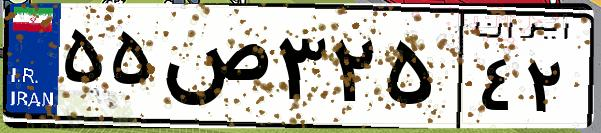2: (330, 28, 385, 110), (525, 38, 570, 115)
3: (270, 28, 330, 110)
4: (475, 38, 525, 113)
5: (385, 28, 445, 110), (57, 26, 110, 100), (110, 28, 158, 98)
ص: (158, 20, 270, 120)
